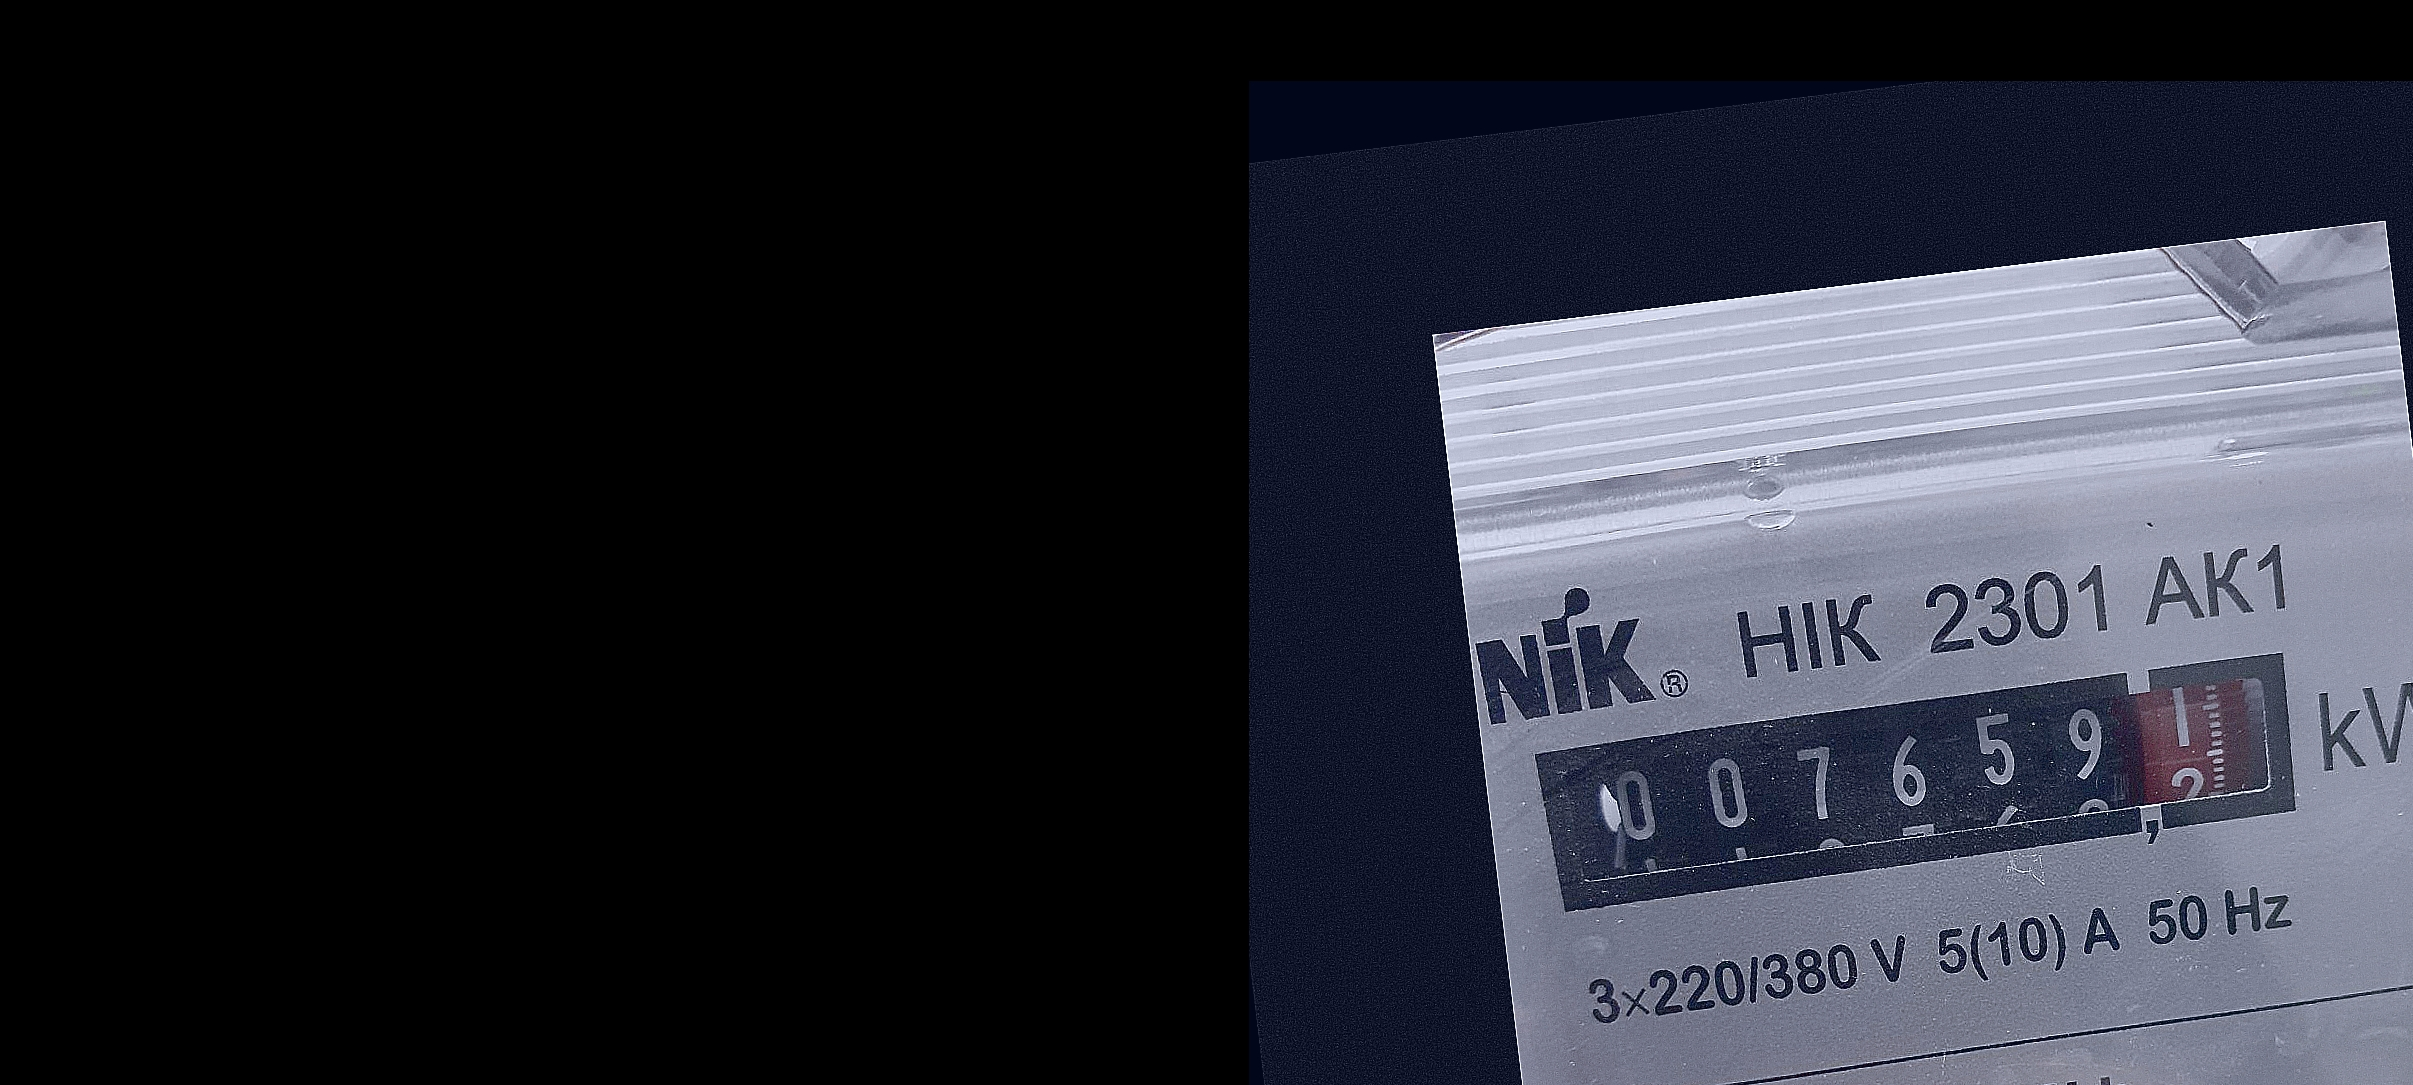0: (1693, 746, 1759, 839), (1607, 759, 1667, 854)
1: (2162, 679, 2205, 757)
5: (1968, 706, 2024, 793)
6: (1877, 726, 1937, 814)
7: (1791, 739, 1844, 830)
9: (2061, 699, 2113, 791)
screen: (1513, 629, 2325, 937)
